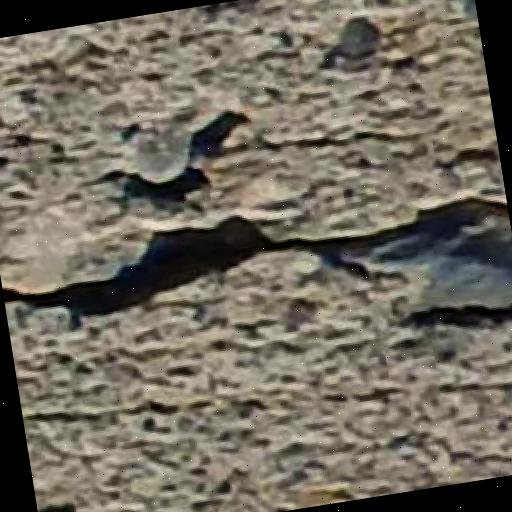spalling: (8, 160, 512, 346)
